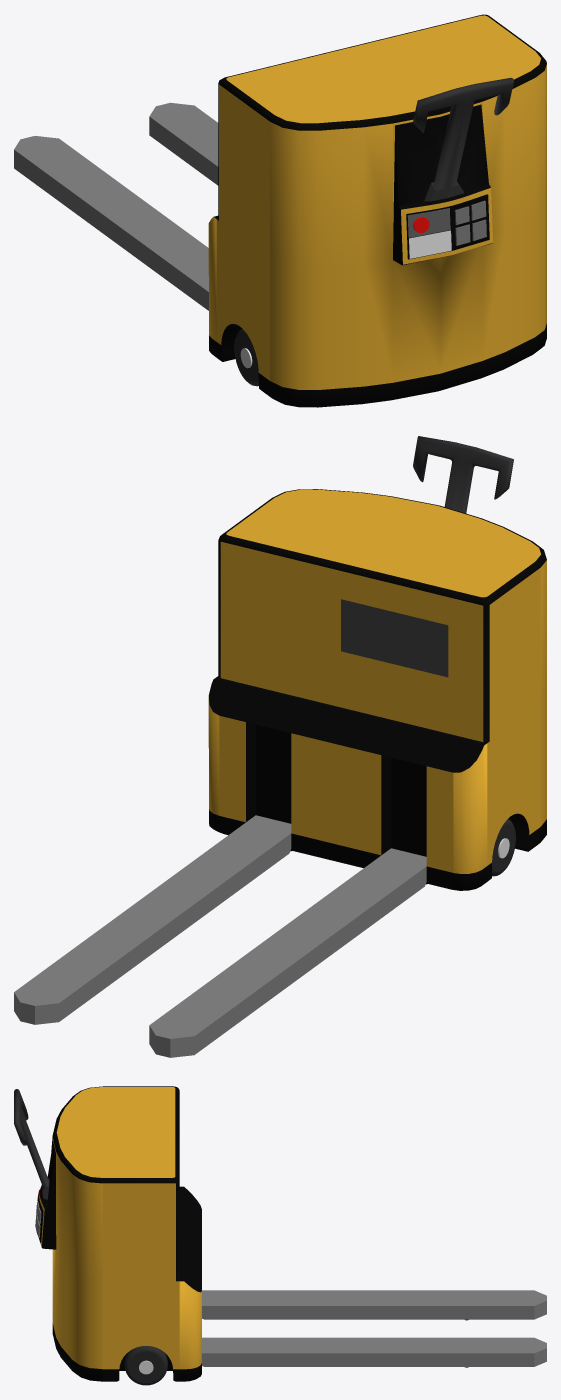
Rendered from PalletJack.fbx.
3 renders of one model, top to bottom at view 1: azimuth 30°, elevation 25°; view 2: azimuth 150°, elevation 25°; view 3: azimuth 270°, elevation 25°, orthographic. The views are drawn at different scales.
Visible parts, largest first — view 1: Cube; view 2: Cube; view 3: Cube.
Boxes of the visible parts, bbox=[...] form: Cube: bbox=[14, 14, 546, 407]; Cube: bbox=[14, 436, 546, 1057]; Cube: bbox=[14, 1086, 546, 1385].
Size of the model in its own units: 100 by 118 by 238.
